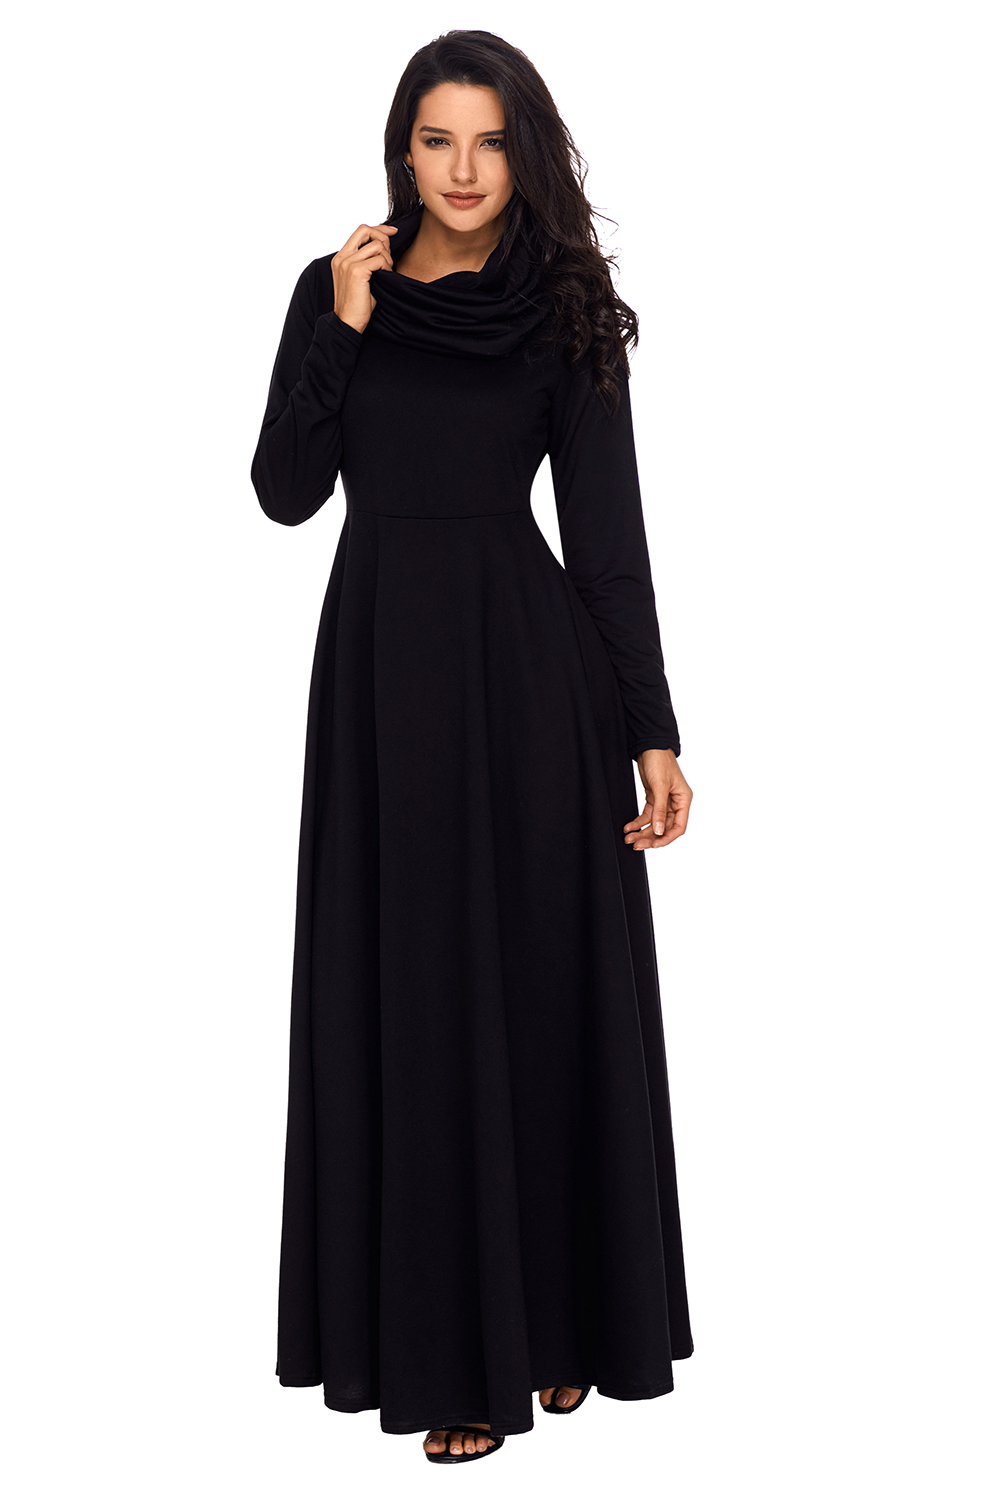S_dress: (228, 252, 725, 1415)
